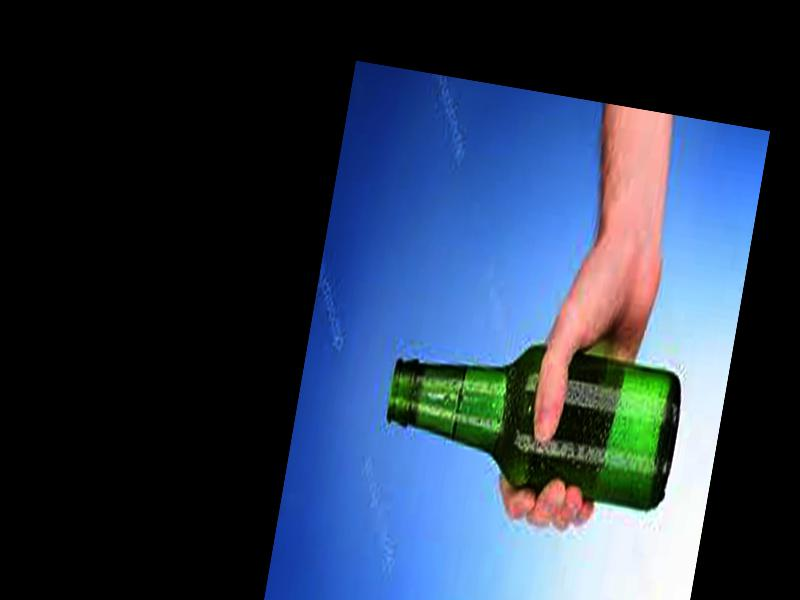Beer: (377, 325, 687, 510)
